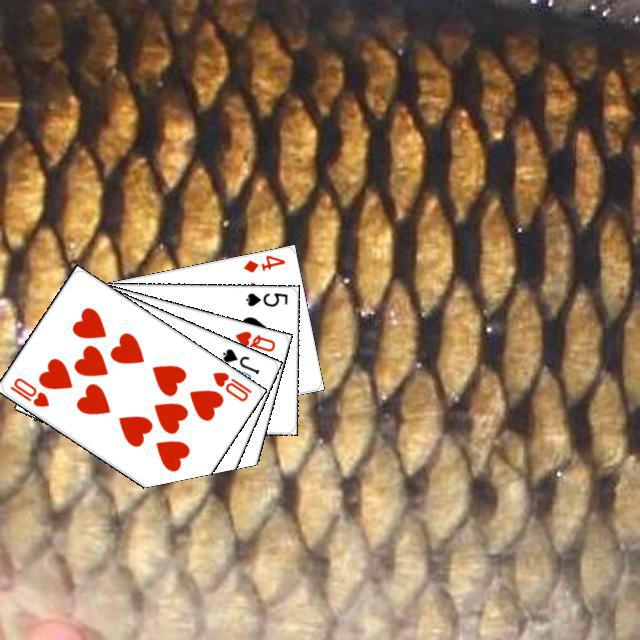10h: (207, 367, 254, 403), (5, 373, 51, 409)
4d: (238, 250, 287, 274)
5s: (241, 288, 289, 308)
Js: (217, 344, 261, 376)
Qh: (230, 326, 277, 353)
